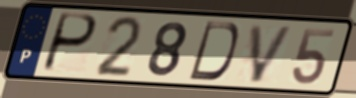2: (93, 14, 145, 78)
5: (290, 26, 339, 86)
8: (147, 20, 189, 78)
D: (186, 19, 242, 83)
P: (38, 11, 100, 75)
V: (248, 23, 297, 85)
